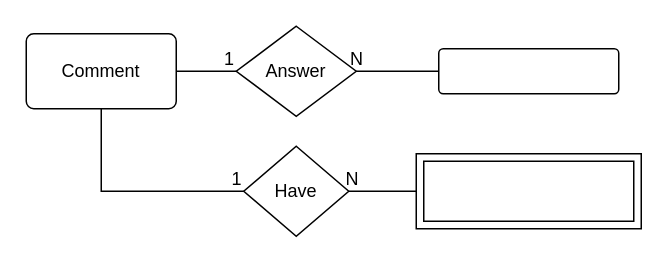
Some shapes in this 668 by 263 pixel diagram are drawn without their labels. The shapes that lost their labels are listed below. From the top down, each one's centre as x and y in pixels, then its label:
At (528,70): "ReplyComment".
At (528,190): "CommentReporter".
